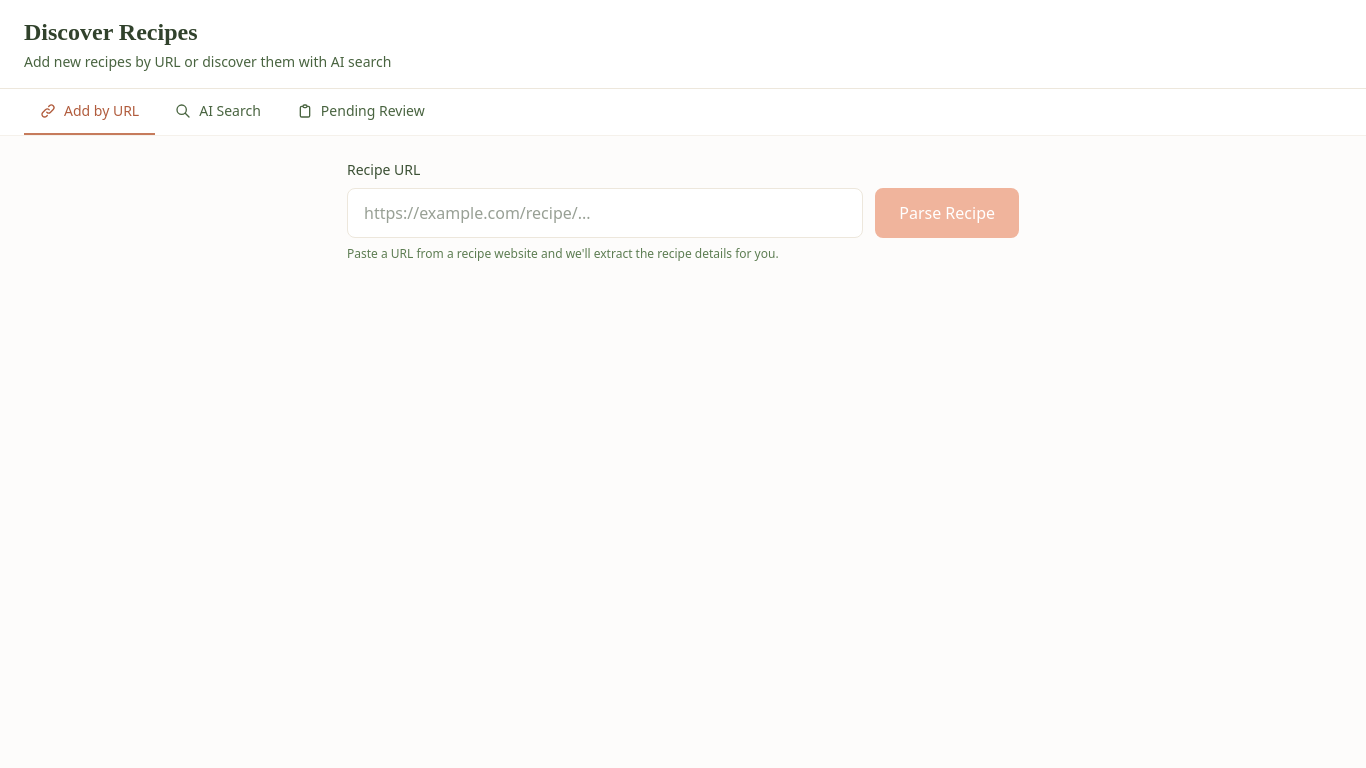
Test: DiscoverPage › AI Search › displays search error
Step 1. Click the button "AI Search" → {"x": 218, "y": 112}, box top-left (159, 89), bottom-right (277, 135)
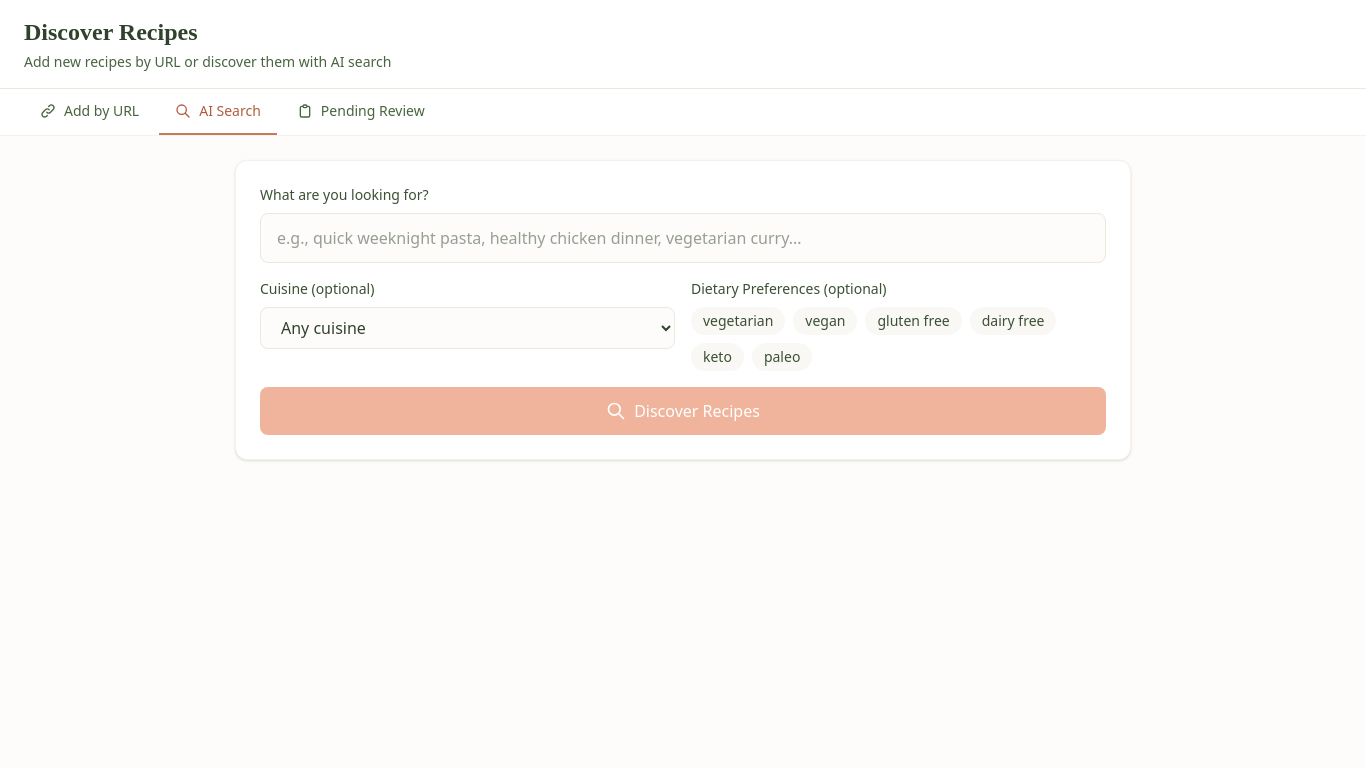
Step 2. Replace the text in the field with placeholder "quick weeknight pasta" with "pasta" → {"x": 683, "y": 238}, box top-left (260, 213), bottom-right (1106, 263)
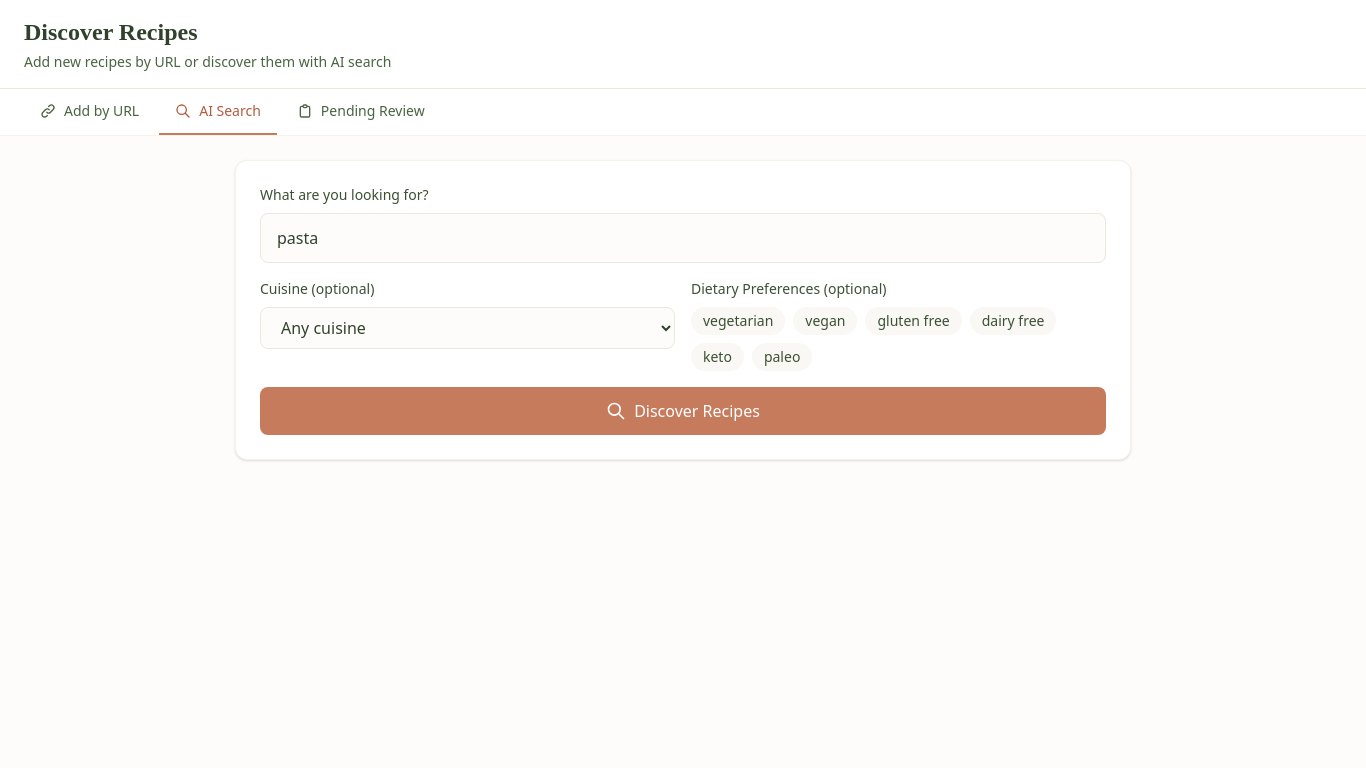
Step 3. Click the button "Discover Recipes" → {"x": 683, "y": 411}, box top-left (260, 387), bottom-right (1106, 435)
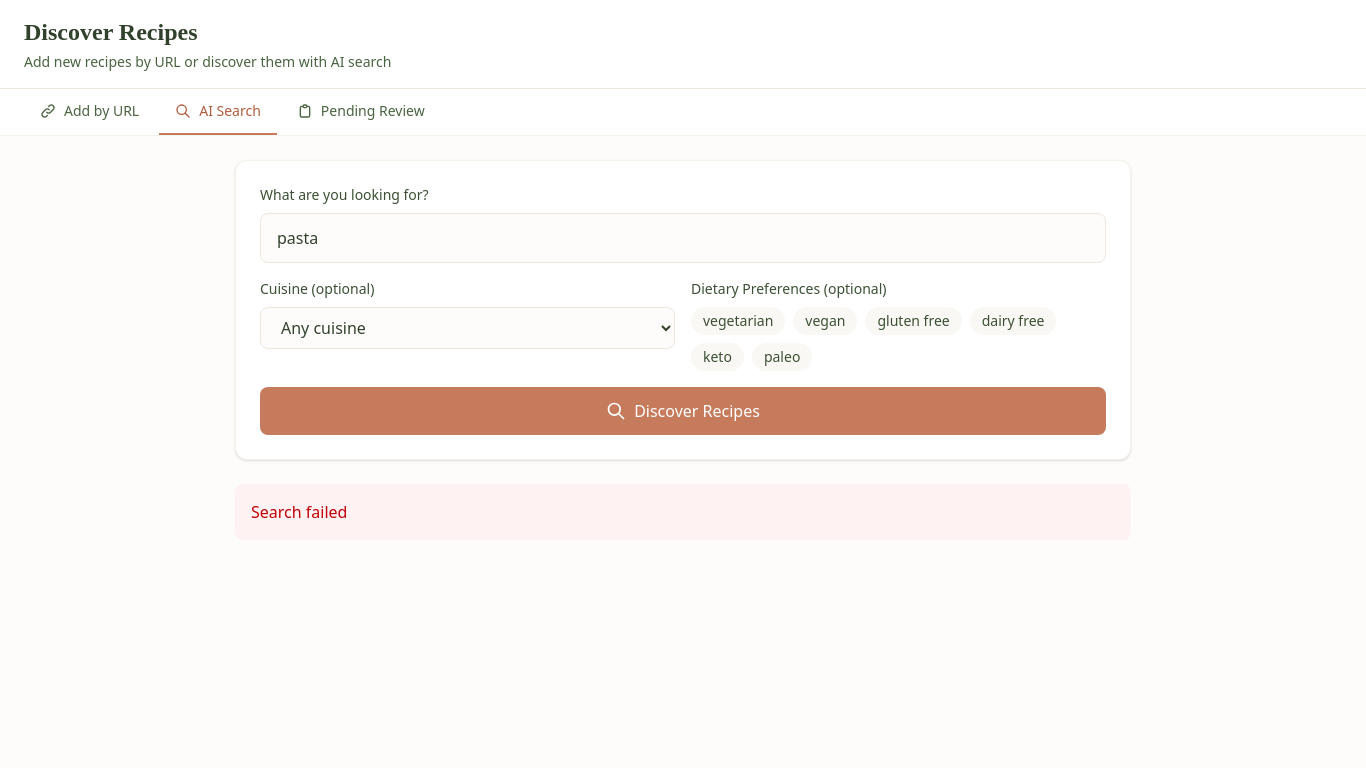
Result: the text "Search failed" is shown at top-left (235, 484), bottom-right (1131, 540)
